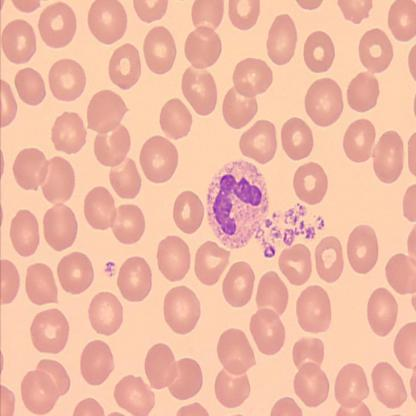Segmented neutrophil: (204, 156, 328, 262)
